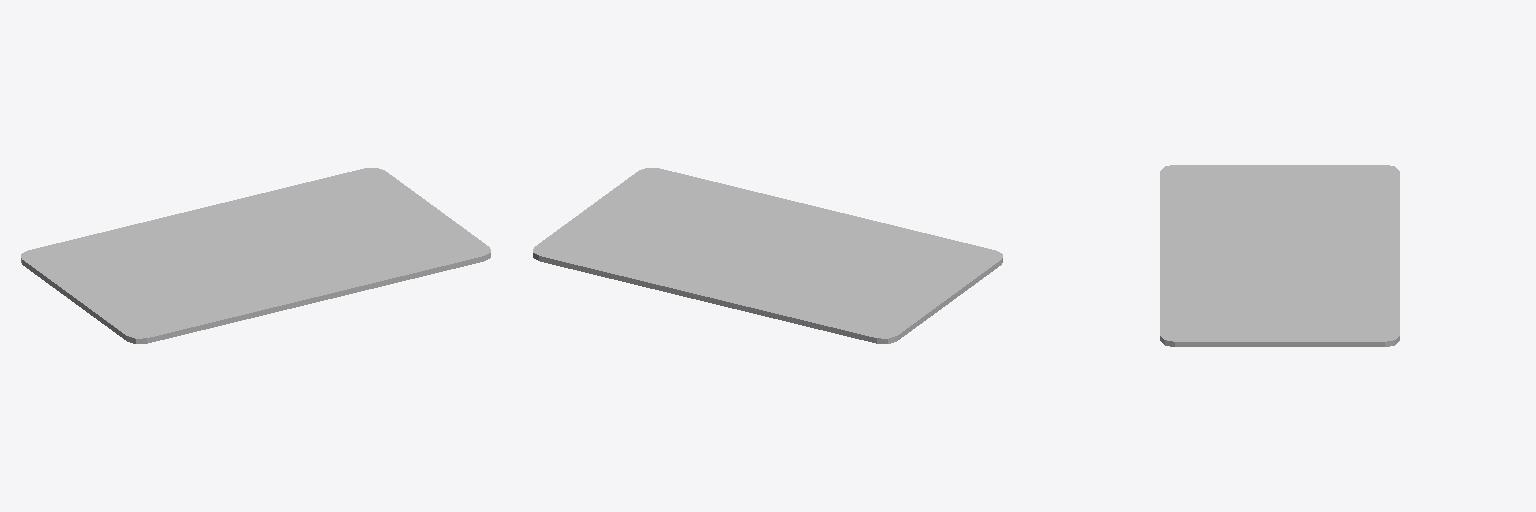
File: mousepad_large_B.obj
3 views of the same model, side by side, from view 1: azimuth 30°, elevation 25°; view 2: azimuth 150°, elevation 25°; view 3: azimuth 270°, elevation 25° (orthographic).
Visible parts, largest first — view 1: mousepad_large_B_Cube.18243; view 2: mousepad_large_B_Cube.18243; view 3: mousepad_large_B_Cube.18243.
Boxes of the visible parts, <box> form: mousepad_large_B_Cube.18243: <box>21,168,490,343</box>; mousepad_large_B_Cube.18243: <box>533,168,1002,343</box>; mousepad_large_B_Cube.18243: <box>1160,165,1399,346</box>.
Size of the model in its own units: 1.4 by 0.02 by 0.8.